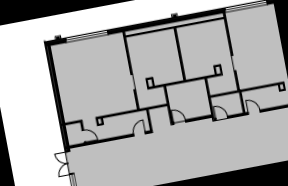door: (128, 118, 147, 136), (244, 97, 263, 115), (211, 103, 229, 121), (170, 107, 188, 124), (82, 127, 99, 143)
double door: (51, 150, 71, 178)
wall: (105, 5, 227, 38), (41, 39, 73, 157), (121, 14, 229, 38), (144, 72, 225, 92), (210, 80, 286, 99), (93, 102, 167, 121), (68, 131, 136, 150), (171, 24, 189, 82), (220, 5, 238, 59), (202, 76, 219, 124), (121, 29, 136, 77), (161, 84, 176, 128), (40, 34, 69, 50), (184, 113, 213, 125), (259, 103, 288, 115), (145, 110, 155, 135), (227, 110, 249, 121), (131, 87, 141, 110), (237, 92, 247, 113), (232, 69, 241, 91), (63, 118, 82, 125)
window: (64, 28, 110, 47), (224, 0, 268, 15)
